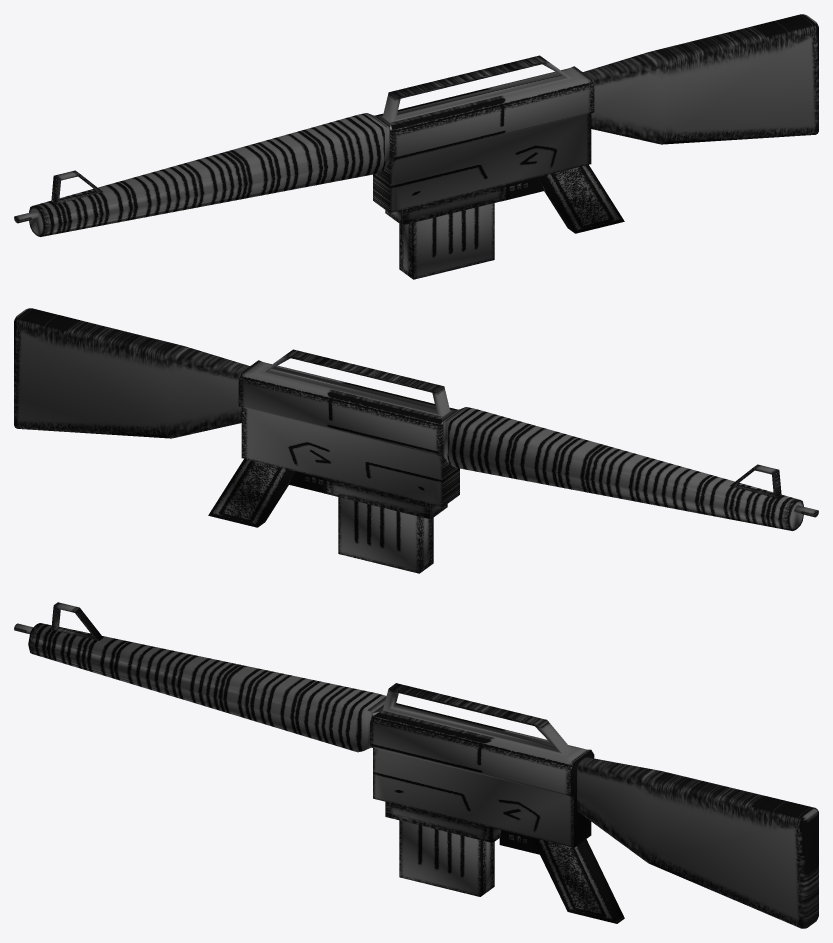
3 views of the same model, one above another, from view 1: azimuth 30°, elevation 25°; view 2: azimuth 150°, elevation 25°; view 3: azimuth 330°, elevation 25° (orthographic).
Visible parts, largest first — view 1: Cube; view 2: Cube; view 3: Cube.
Part boxes in pixels (box(x1,y1,x2,y2)): Cube: box(14, 14, 818, 279); Cube: box(14, 308, 818, 573); Cube: box(14, 602, 818, 928).
Size of the model in its own units: 7.37 by 1.62 by 0.517.
